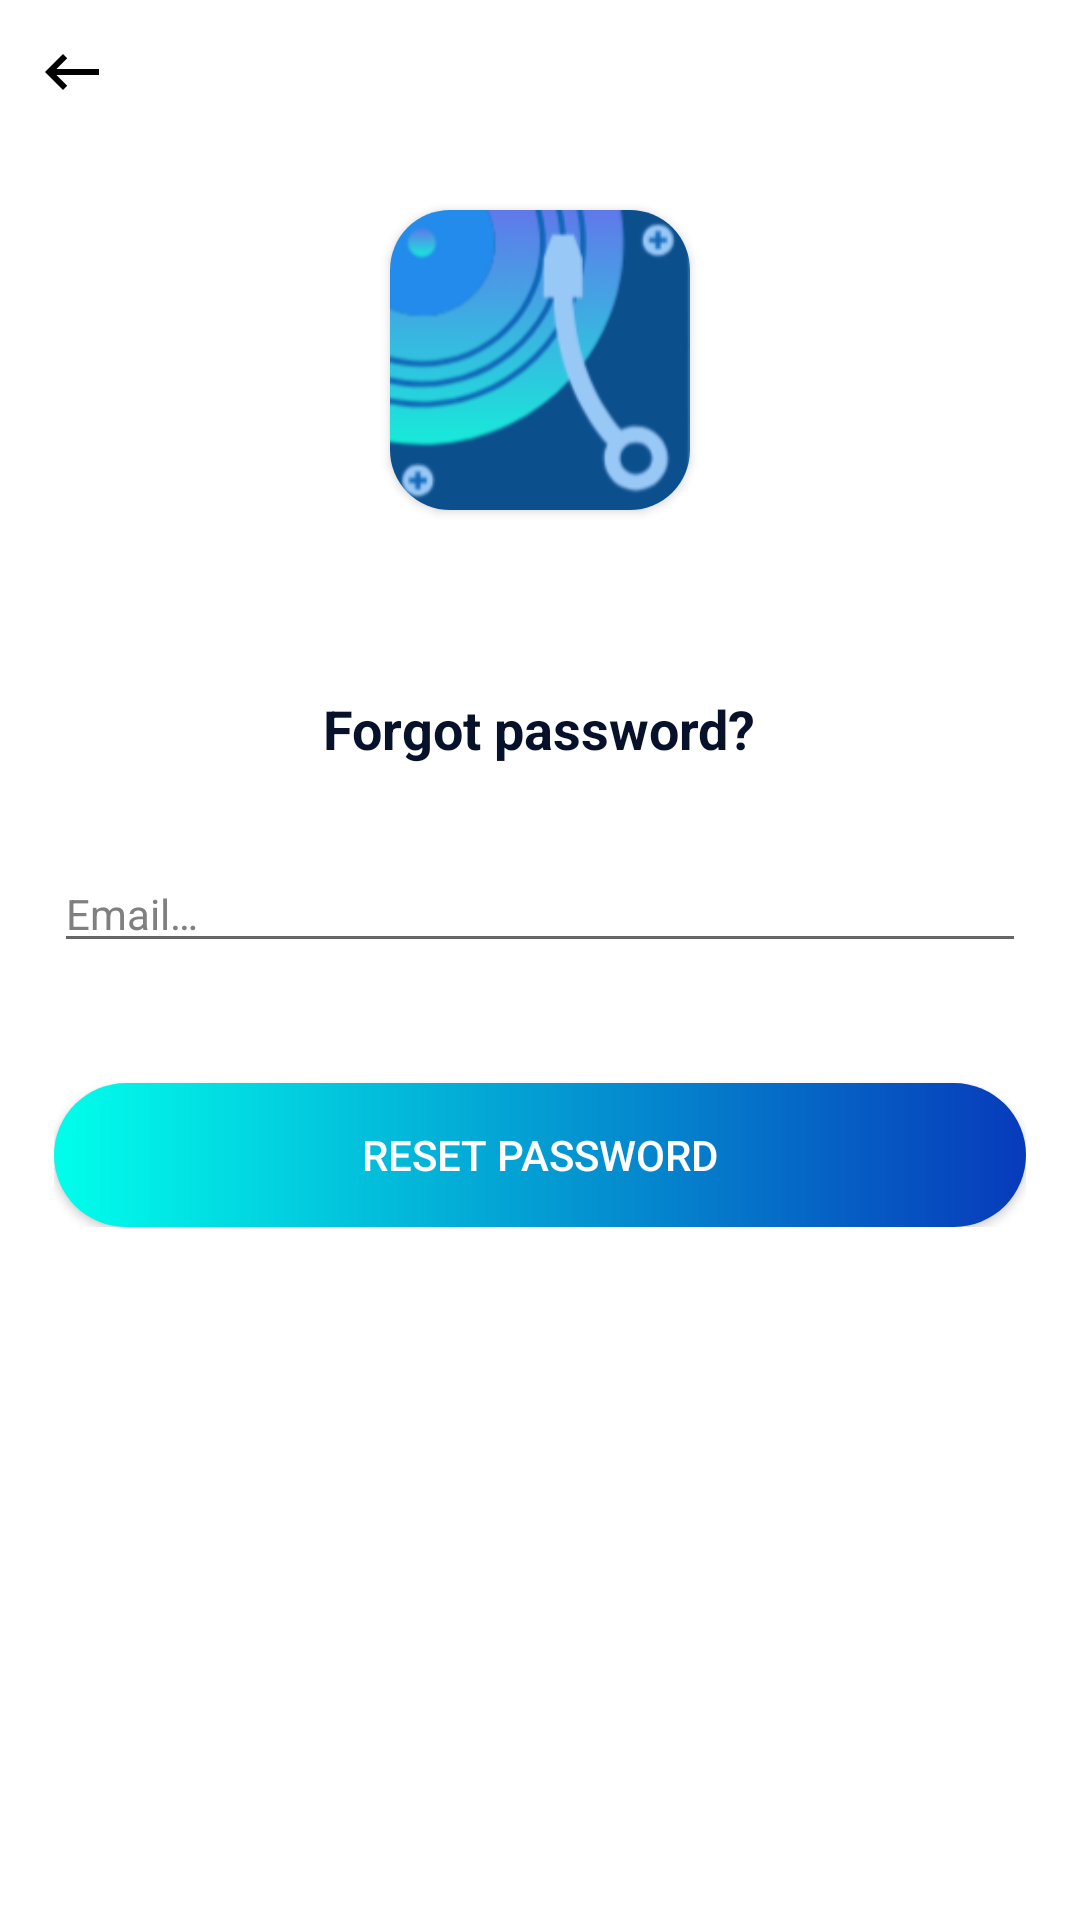

Where to tap for icons on this 1080 × 1920 app screen, as point (x, y):
back: point (72, 72)
